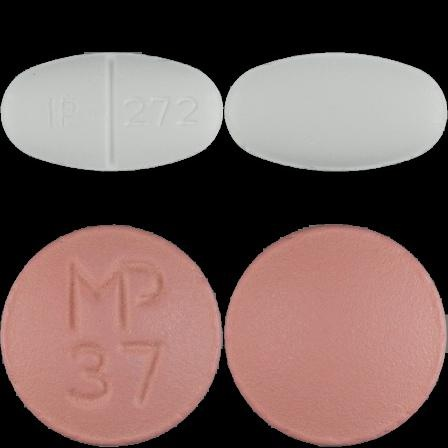50090-0019: (0, 0, 224, 224)
